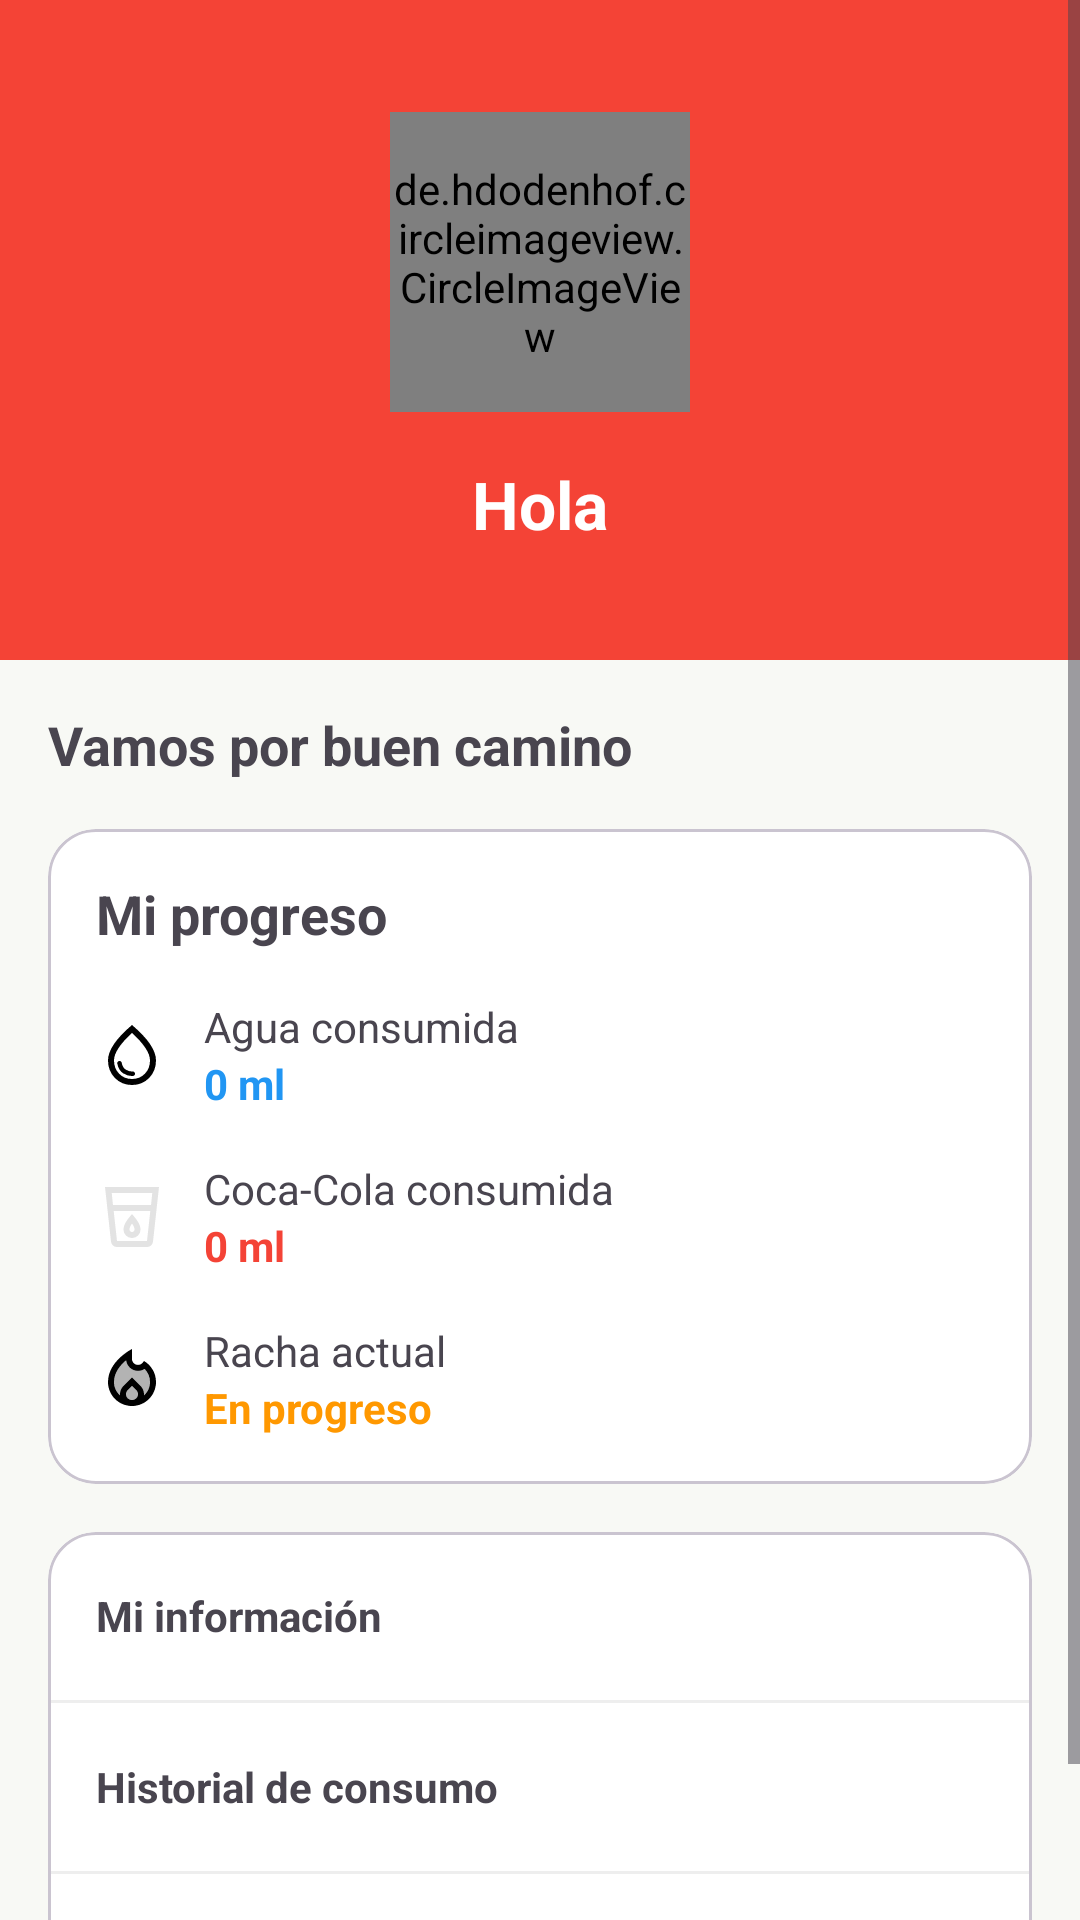

Where to tap for icons on this 1080px x 1920px app screen, as (x,y):
soda: (132,1217)
